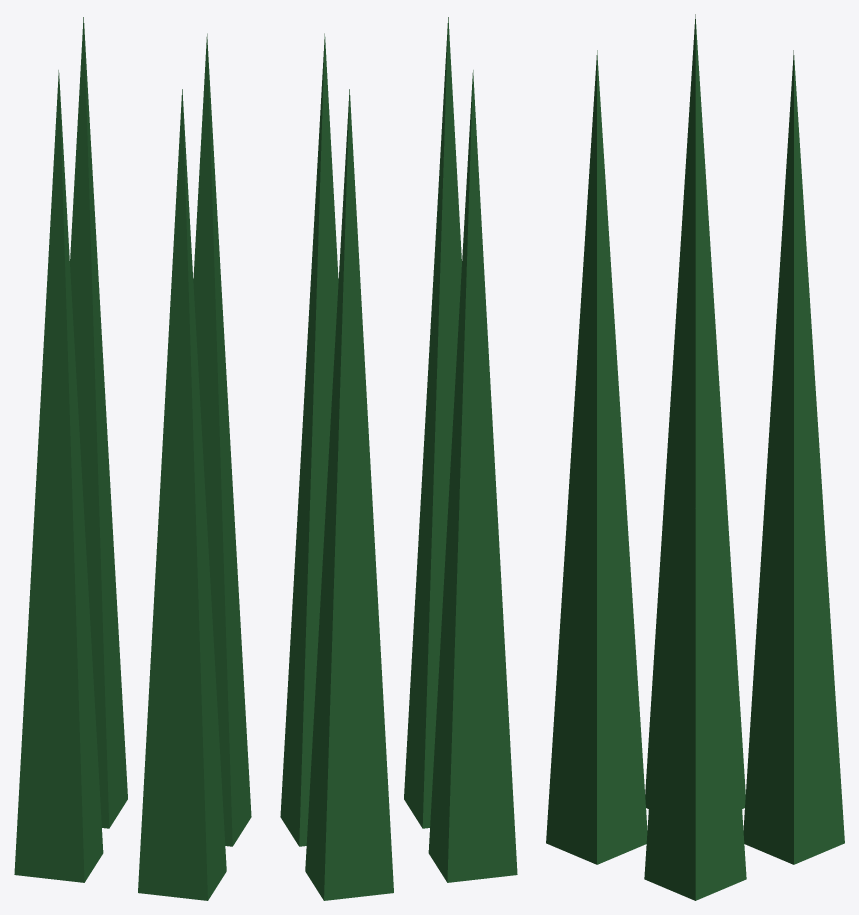
File: grass.glb
3 views of the same model, side by side, from view 1: azimuth 30°, elevation 25°; view 2: azimuth 150°, elevation 25°; view 3: azimuth 270°, elevation 25° (orthographic).
Visible parts, largest first — view 1: grass; view 2: grass; view 3: grass.
Boxes of the visible parts, <box> form: grass: <box>14,17,251,900</box>; grass: <box>280,17,517,900</box>; grass: <box>546,14,844,900</box>.
Size of the model in its own units: 0.409 by 1.31 by 0.4482.
